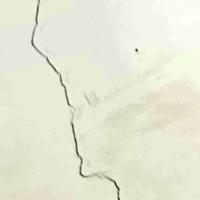crack: (21, 0, 124, 199)
